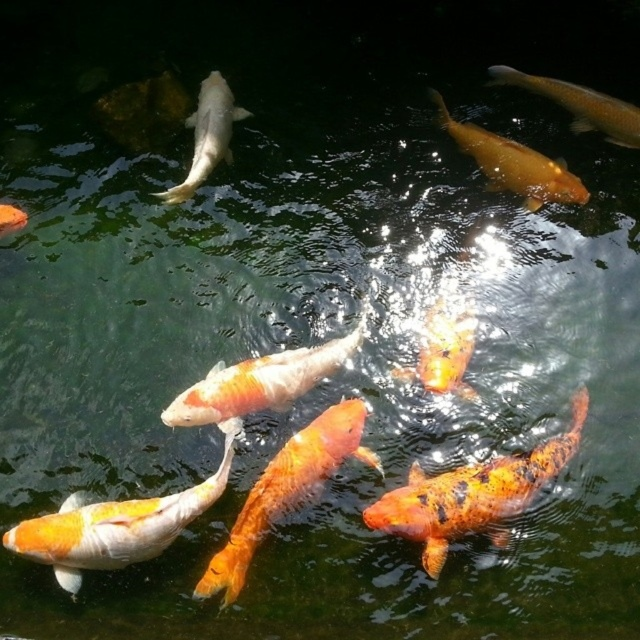Goldfish: (0, 64, 640, 615)
